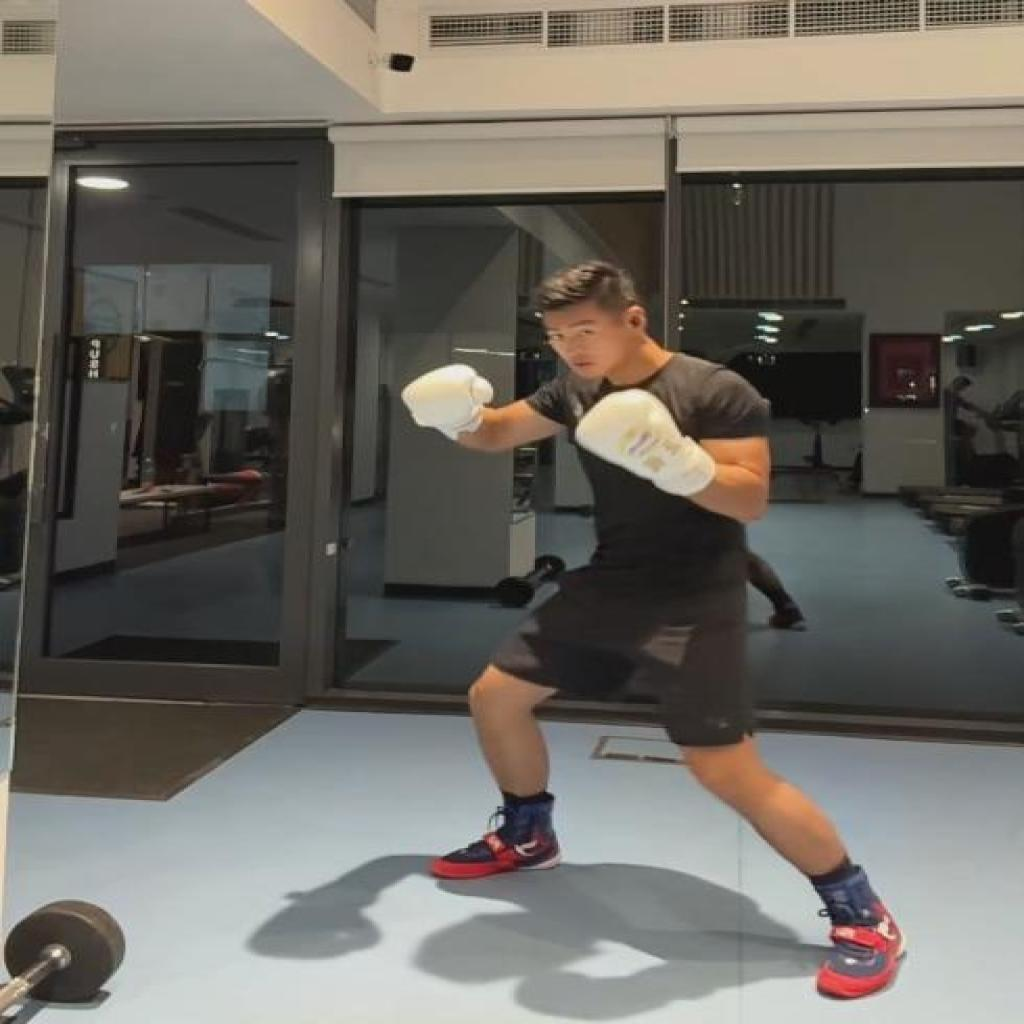no punch: (399, 264, 911, 1003)
